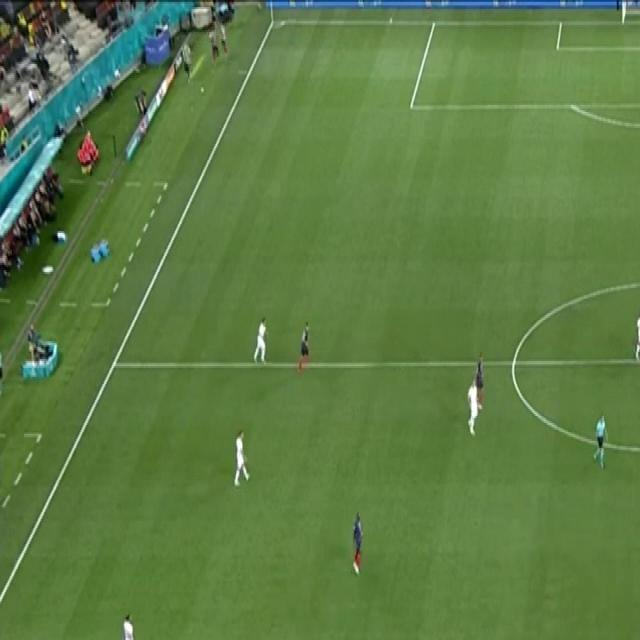Keeper: (592, 412, 610, 471)
another-player: (350, 508, 365, 578), (293, 321, 311, 377), (475, 352, 485, 414)
ball: (199, 85, 205, 93)
player-white: (232, 429, 252, 489), (464, 379, 480, 437), (253, 314, 270, 366), (120, 611, 139, 640), (634, 310, 640, 364)
